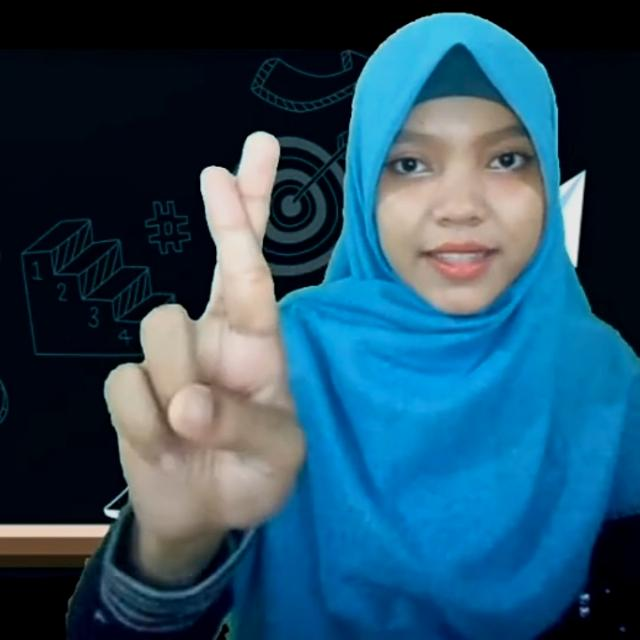R: (99, 119, 311, 535)
